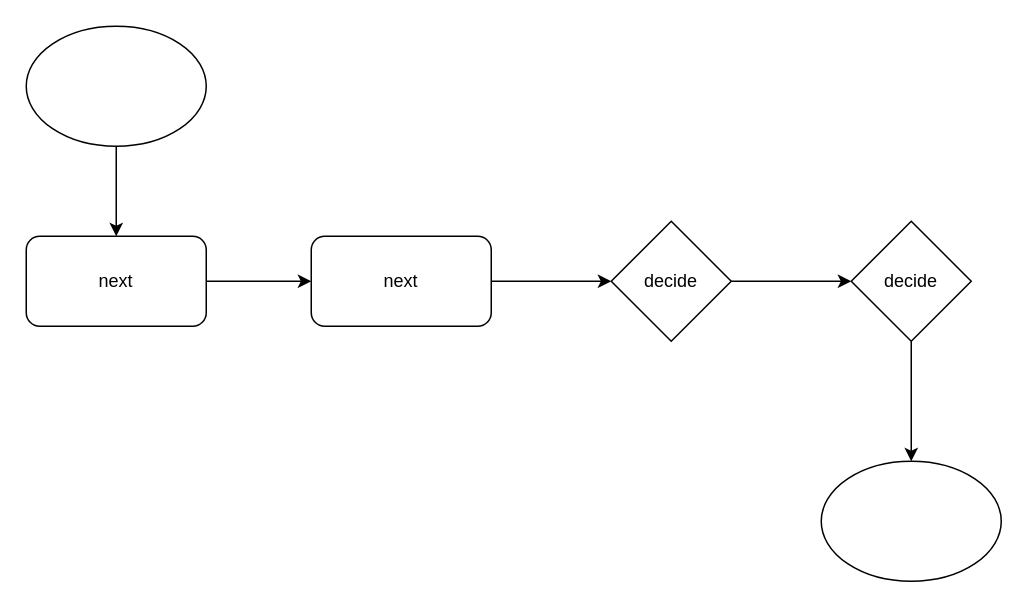
Some shapes in this 1028 by 608 pixel diagram are drawn without their labels. The centre of each missing label's shape, as x and y in pixels:
"end" belongs at pixel 910 520.
"start" belongs at pixel 115 85.
